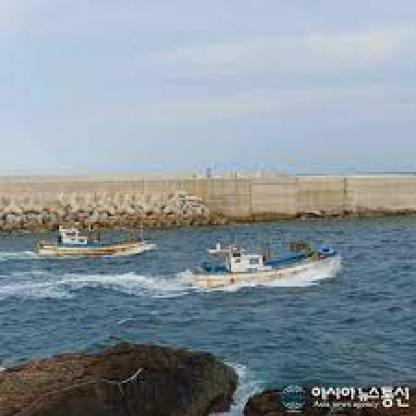fish-b: (178, 236, 352, 300), (22, 216, 161, 262)
